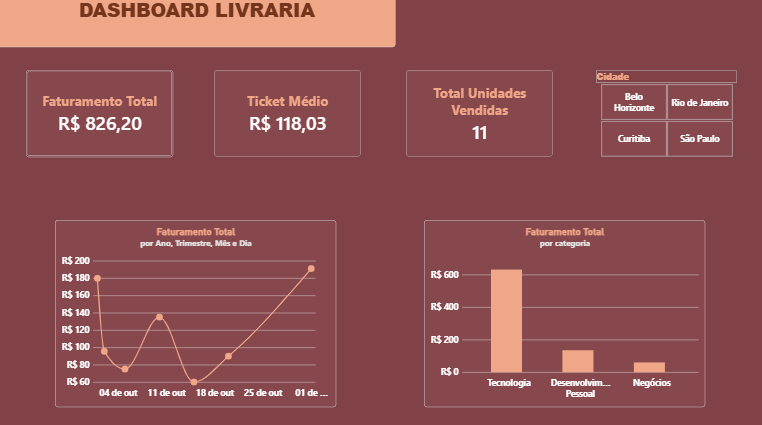

This screenshot's page, from the dashboard's own definition file:
{"tool":"powerbi","page":{"name":"Visão Geral","canvas":[1920,1080],"ordinal":0},"visuals":[{"type":"clusteredColumnChart","fields":{"Category":["public livros.categoria"],"Y":["_Medidas.Faturamento Total"]},"box":[1067.5,560,702.5,467.5],"z":0},{"type":"cardVisual","title":"Faturamento Total","fields":{"Data":["_Medidas.Faturamento Total"]},"box":[72.5,185,367.5,217.5],"z":1000},{"type":"lineChart","fields":{"Category":["public vendas.data_venda.Variação.Hierarquia de datas.Ano","public vendas.data_venda.Variação.Hierarquia de datas.Trimestre","public vendas.data_venda.Variação.Hierarquia de datas.Mês","public vendas.data_venda.Variação.Hierarquia de datas.Dia"],"Y":["_Medidas.Faturamento Total"]},"box":[145,560,702.5,467.5],"z":2000},{"type":"cardVisual","fields":{"Data":["_Medidas.Total Unidades Vendidas"]},"box":[1022.5,185,367.5,217.5],"z":3000},{"type":"slicer","title":"vvvvv","fields":{"Values":["public clientes.cidade"]},"box":[1490,185,367.5,217.5],"z":4000},{"type":"cardVisual","fields":{"Data":["_Medidas.Ticket Médio"]},"box":[542.5,185,367.5,217.5],"z":5000},{"type":"textbox","title":"DASHBOARD LIVRARIA","box":[0,0,996.2,127.8],"z":6000}]}

Visuals, with their boxes in screenshot pixels (x1, y1, x2, y2), scaled from the page's 1920x1080 canvas onto the 762x425 screenshot:
clusteredColumnChart - public livros.categoria x _Medidas.Faturamento Total: <region>424, 220, 702, 404</region>
"Faturamento Total" cardVisual: <region>29, 73, 175, 158</region>
lineChart - public vendas.data_venda.Variação.Hierarquia de datas.Ano x public vendas.data_venda.Variação.Hierarquia de datas.Trimestre: <region>58, 220, 336, 404</region>
cardVisual - _Medidas.Total Unidades Vendidas: <region>406, 73, 552, 158</region>
"vvvvv" slicer: <region>591, 73, 737, 158</region>
cardVisual - _Medidas.Ticket Médio: <region>215, 73, 361, 158</region>
"DASHBOARD LIVRARIA" textbox: <region>0, 0, 395, 50</region>
